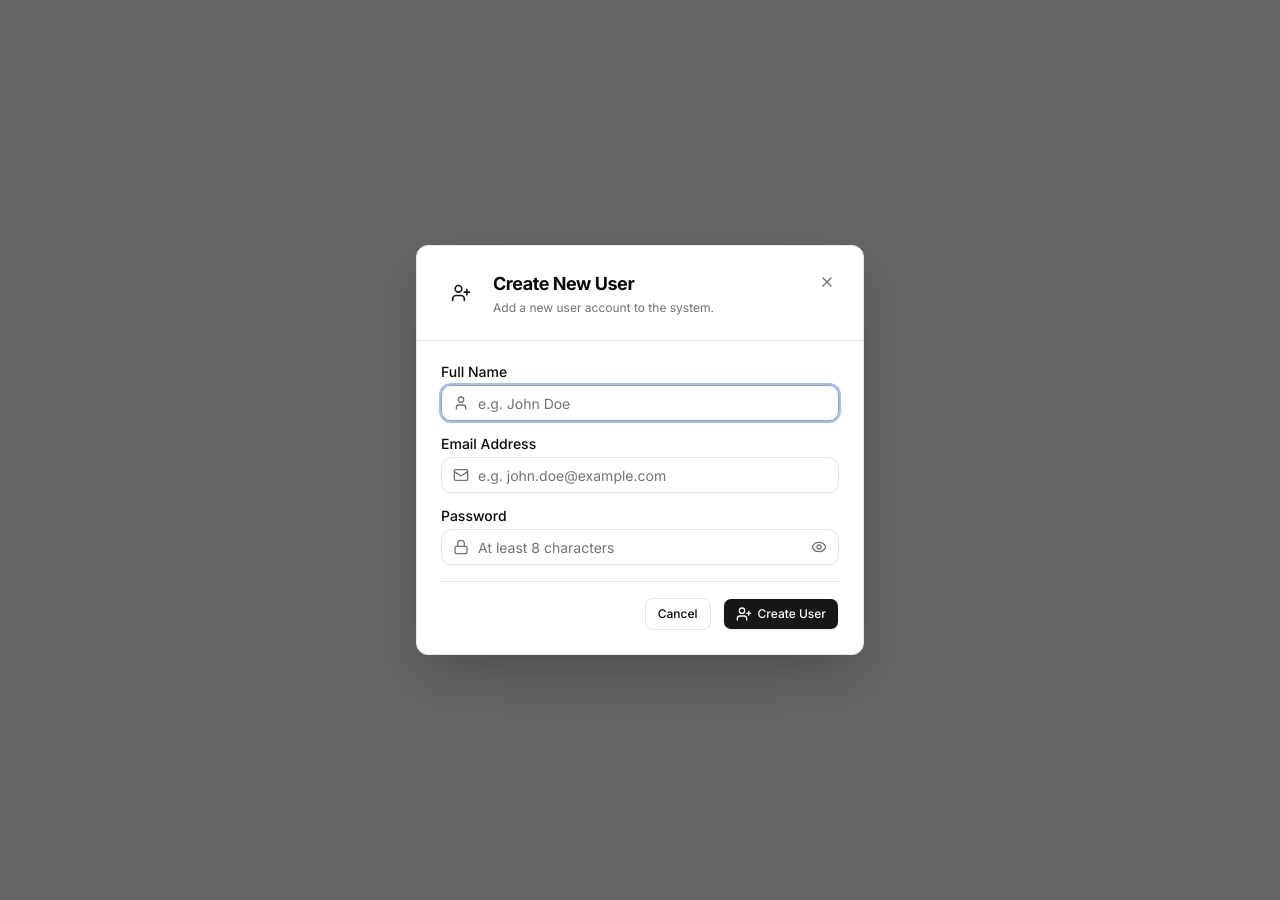
CreateUserModal Component Tests › 2. Form Validation Rules › shows validation errors when submitting empty form
Click the button "Create User": (781, 614) [722, 598, 839, 630]
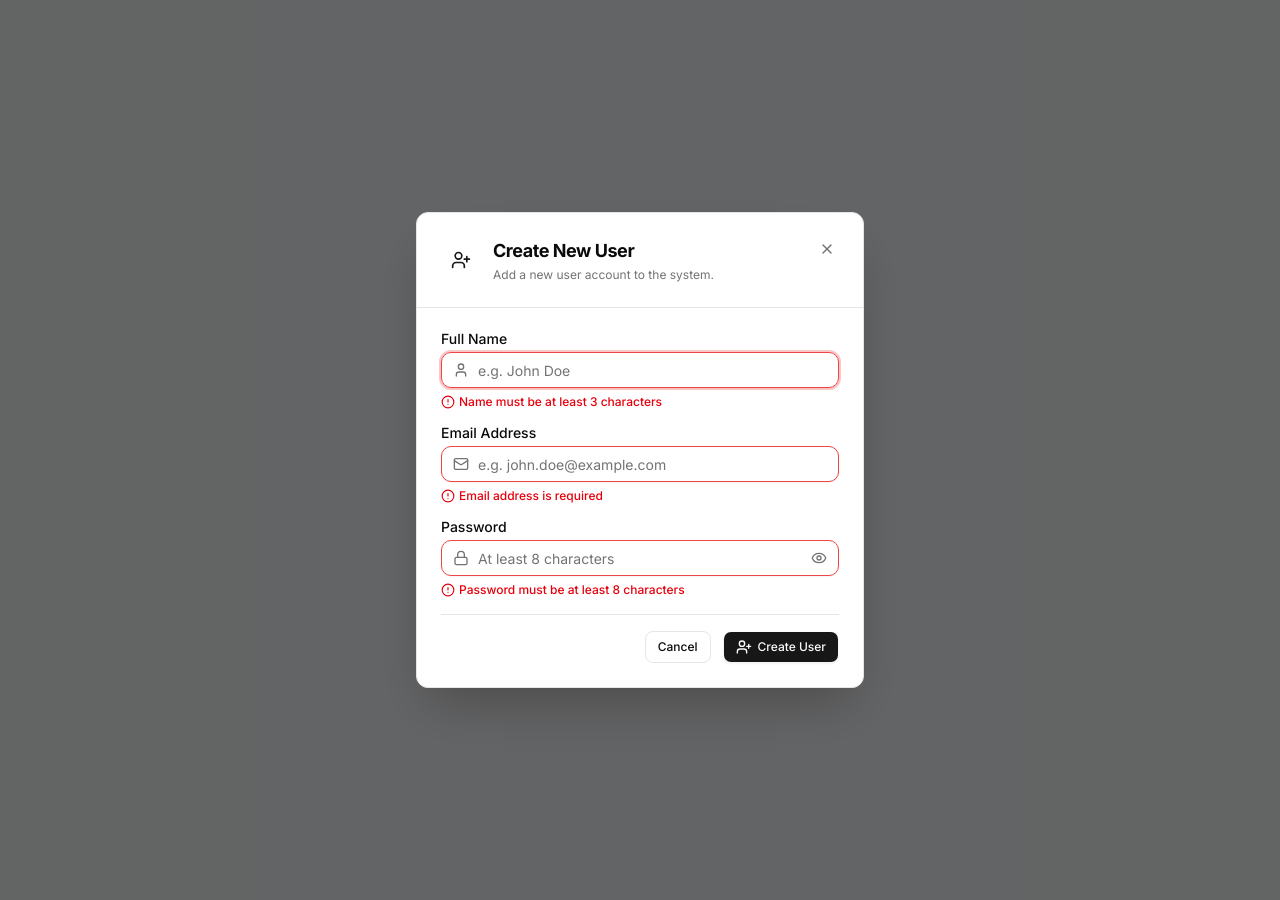
Expected: the text "Name must be at least 3 characters" is shown, [459, 394, 662, 410]
Expected: the text "Email address is required" is shown, [459, 488, 603, 504]
Expected: the text "Password must be at least 8 characters" is shown, [459, 582, 685, 598]
